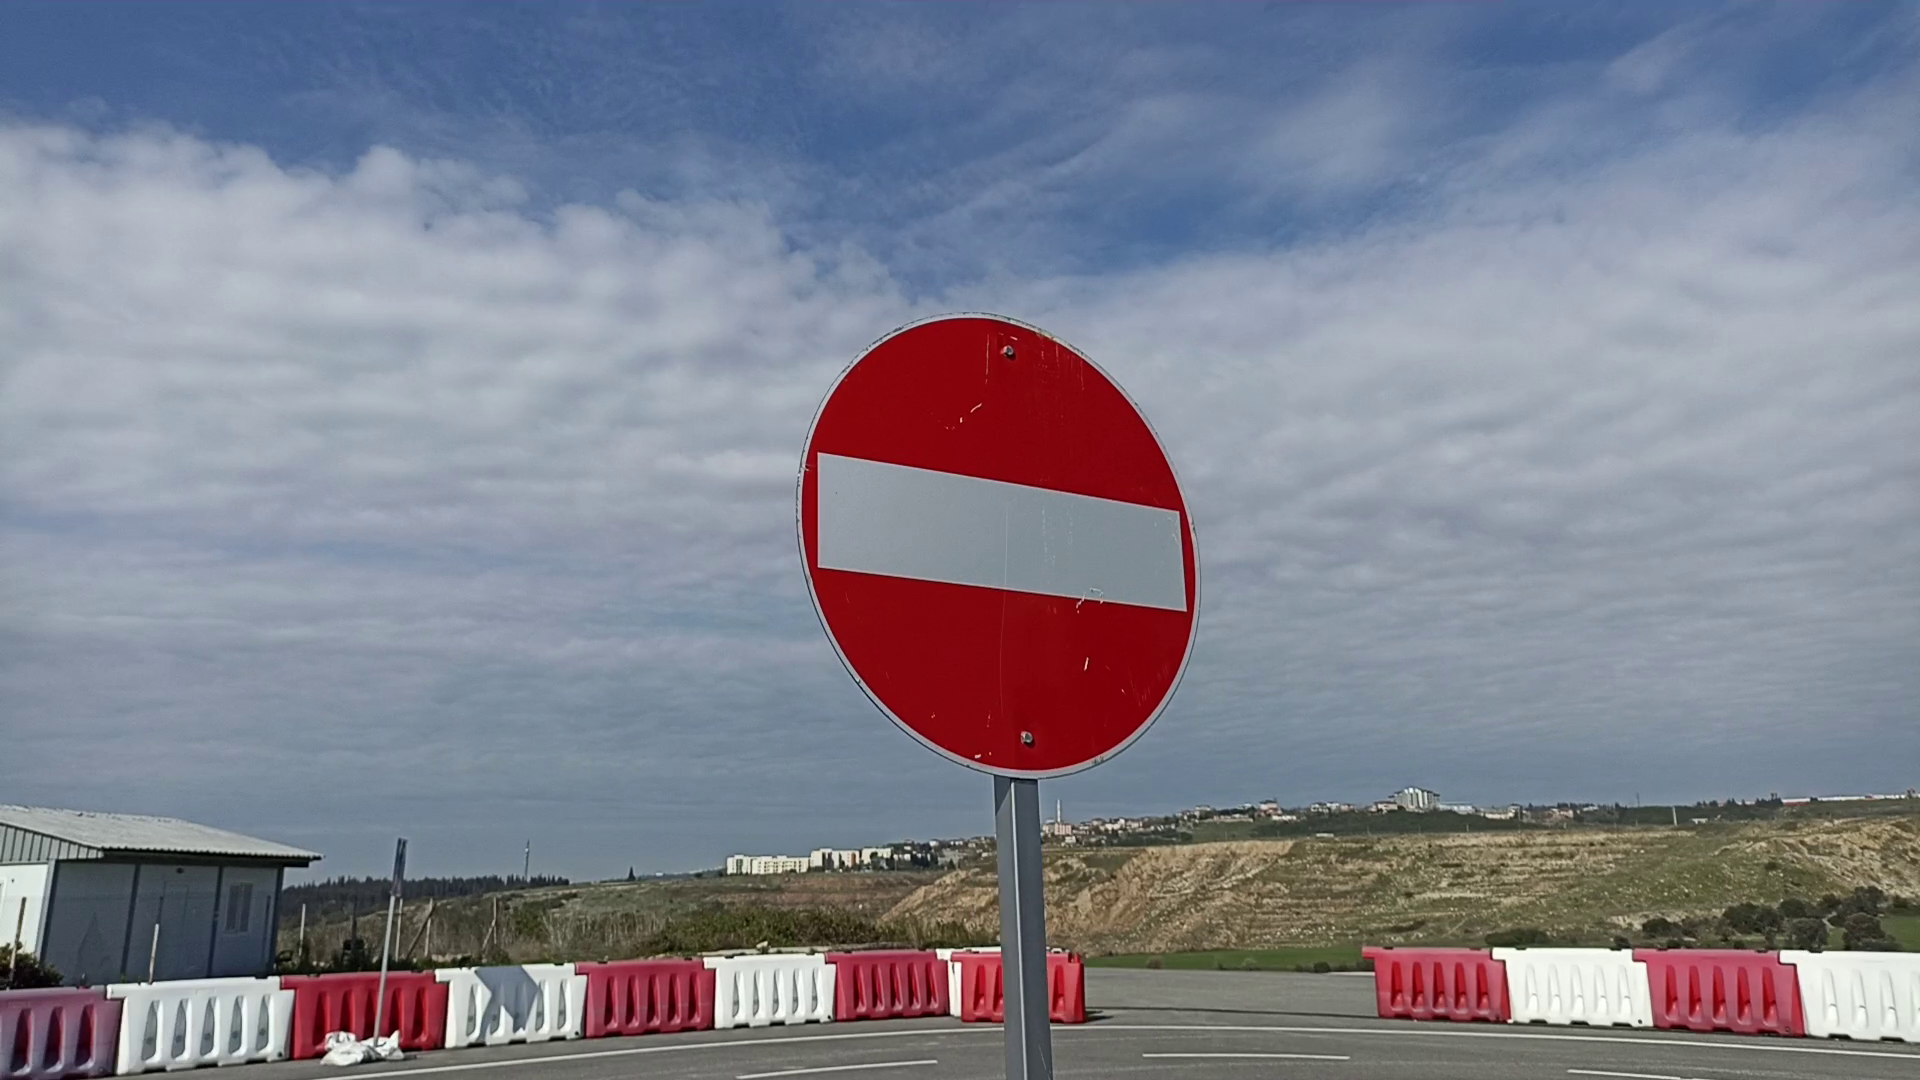noentryway: (782, 298, 1211, 789)
